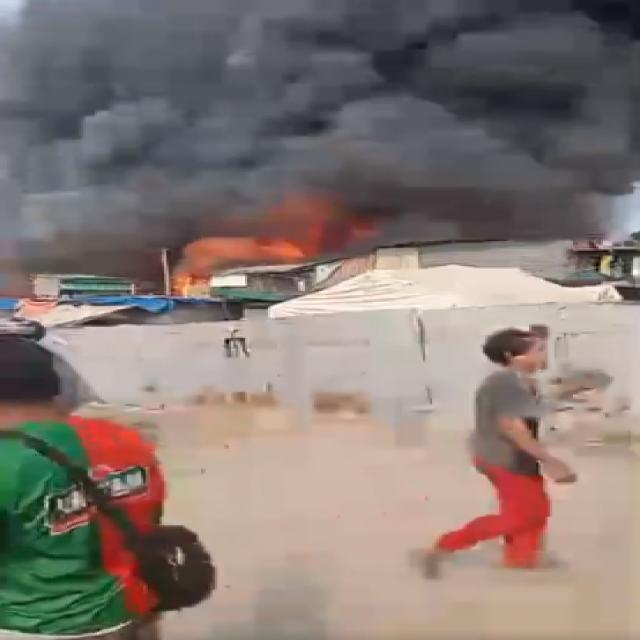Fire: (156, 192, 390, 296)
Smoke: (0, 0, 640, 277)
